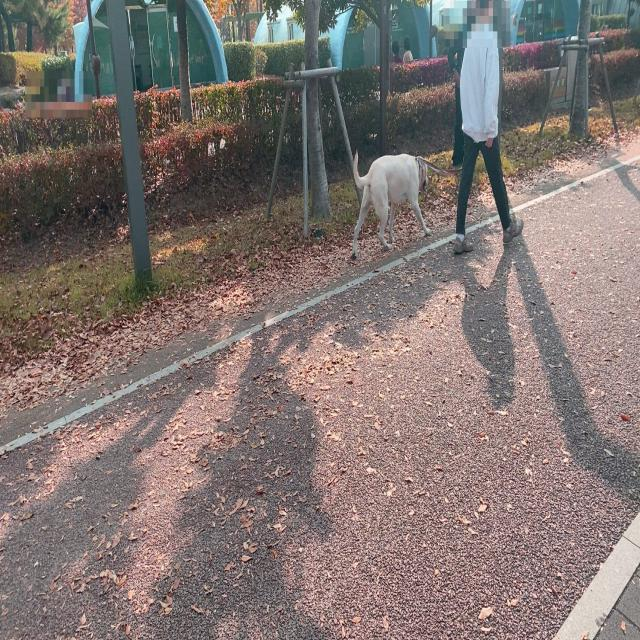Leashed_Dog: (350, 148, 474, 260)
